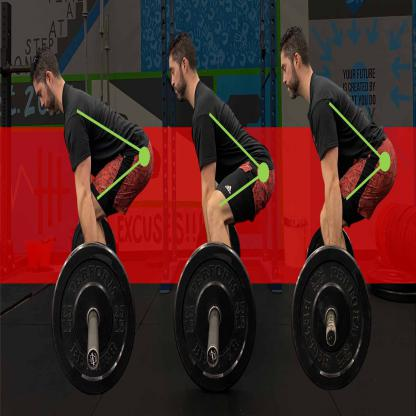Barbell: (46, 238, 142, 400), (170, 237, 259, 396), (288, 240, 376, 396)
